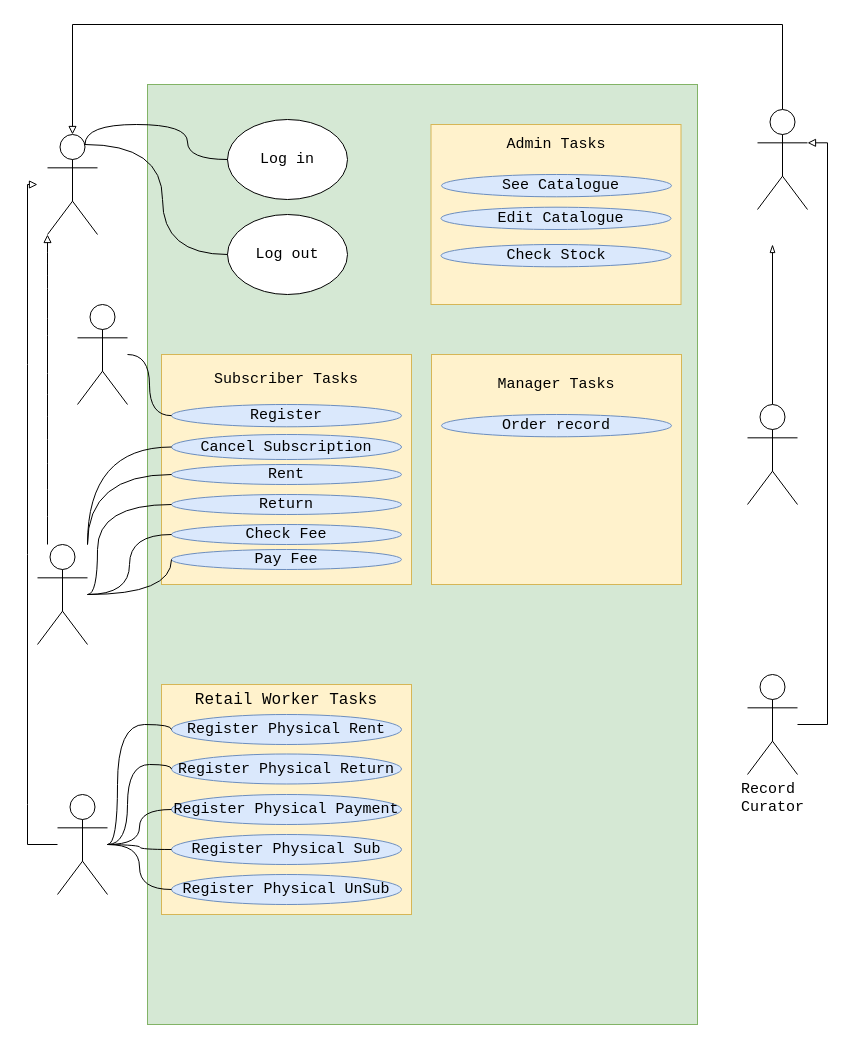
Image size: 853x1042. Some labels were removed from this diagram. Each missing label, with the centre of its shape:
Admin: the point at 782,159
Manager: the point at 772,454
New Subscriber: the point at 102,354
Retail Worker: the point at 82,844
Subscriber: the point at 62,594
User: the point at 72,184
